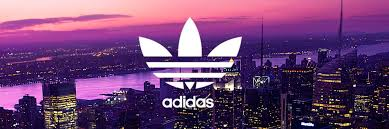adidas: (139, 18, 242, 109)
